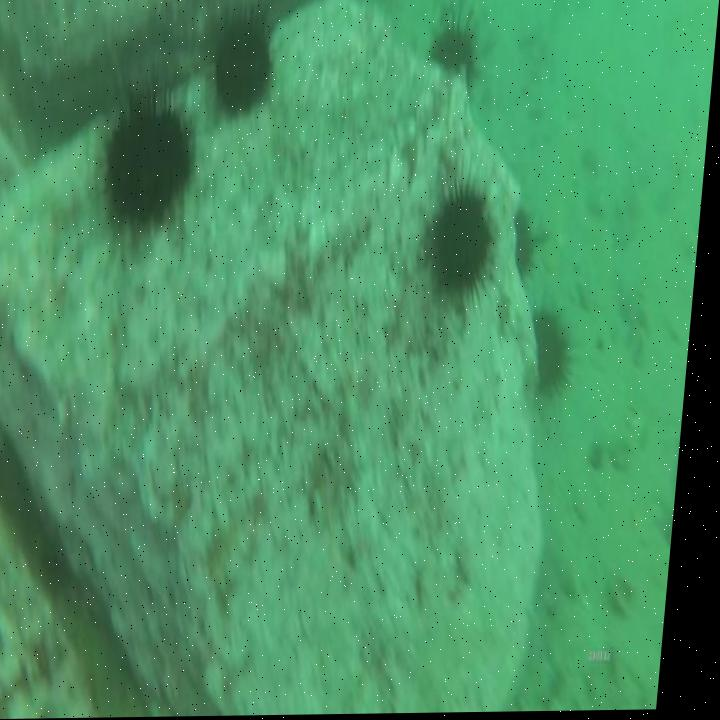echinus: (104, 104, 198, 221), (436, 197, 495, 290), (212, 29, 275, 115), (543, 315, 576, 390), (433, 30, 476, 66)
